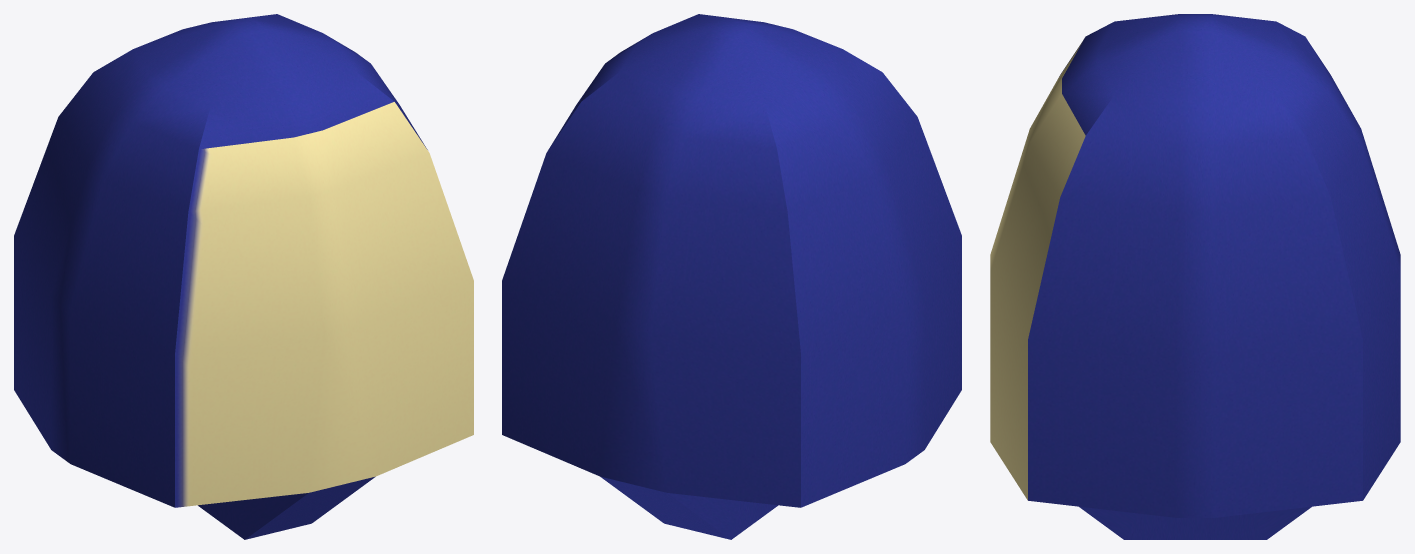
The model's file is p_punta.obj.
3 renders of one model, left to right at view 1: azimuth 30°, elevation 25°; view 2: azimuth 150°, elevation 25°; view 3: azimuth 270°, elevation 25°, orthographic. The views are drawn at different scales.
Visible parts, largest first — view 1: B_P; view 2: B_P; view 3: B_P.
Boxes of the visible parts, <box> form: B_P: <box>14,14,473,539</box>; B_P: <box>502,14,961,539</box>; B_P: <box>990,14,1400,539</box>.
Size of the model in its own units: 3.94 by 4.93 by 3.68.
